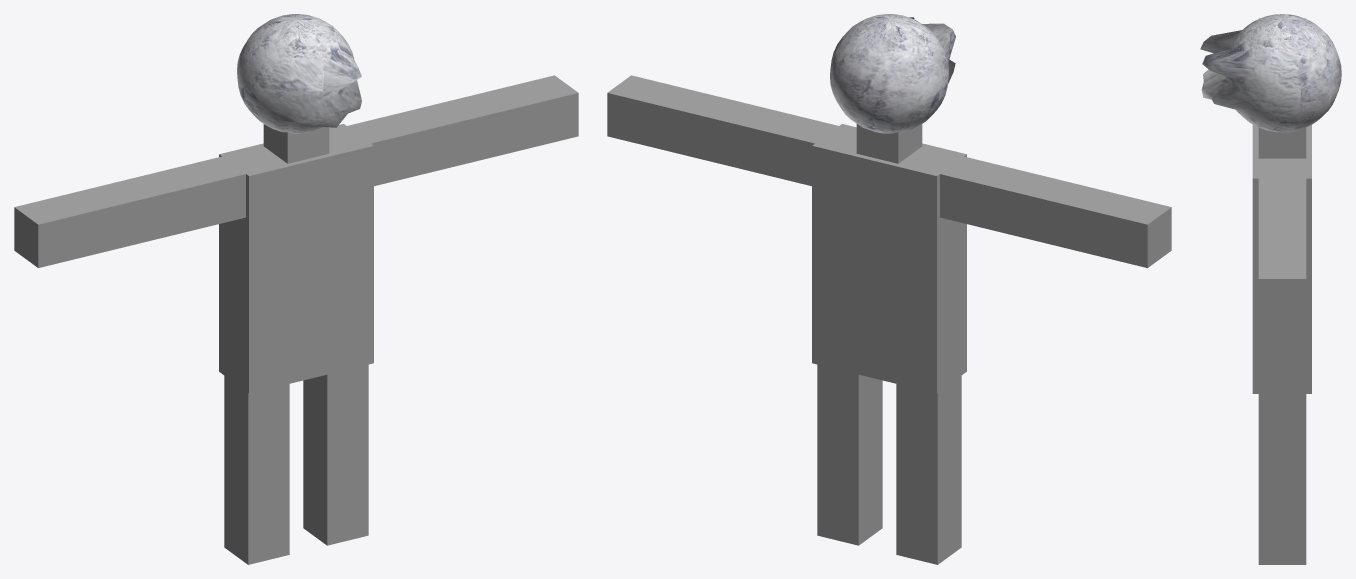
Rendered from Player.fbx.
3 views of the same model, side by side, from view 1: azimuth 30°, elevation 25°; view 2: azimuth 150°, elevation 25°; view 3: azimuth 270°, elevation 25° (orthographic).
Visible parts, largest first — view 1: pCube2, pasted__pCube3 (×2), pCube4, pSphere1, pCube3, pCube1; view 2: pCube2, pasted__pCube3 (×2), pCube4, pSphere1, pCube3, pCube1; view 3: pasted__pCube3 (×2), pSphere1, pCube2, pCube1.
Part boxes in pixels (<box>): pCube2: <box>219,124,373,393</box>; pasted__pCube3 (×2): <box>303,75,578,545</box>; pCube4: <box>14,156,245,267</box>; pSphere1: <box>237,14,361,133</box>; pCube3: <box>224,376,289,564</box>; pCube1: <box>263,124,329,163</box>; pCube2: <box>812,124,966,393</box>; pasted__pCube3 (×2): <box>607,75,882,545</box>; pCube4: <box>940,156,1171,267</box>; pSphere1: <box>830,14,955,133</box>; pCube3: <box>896,376,961,564</box>; pCube1: <box>856,124,922,163</box>; pasted__pCube3 (×2): <box>1258,178,1306,564</box>; pSphere1: <box>1200,14,1341,132</box>; pCube2: <box>1252,125,1311,393</box>; pCube1: <box>1258,127,1306,158</box>.
Size of the model in its own units: 2.6 by 2.4 by 0.5967.
2 materials, 1 textured.
